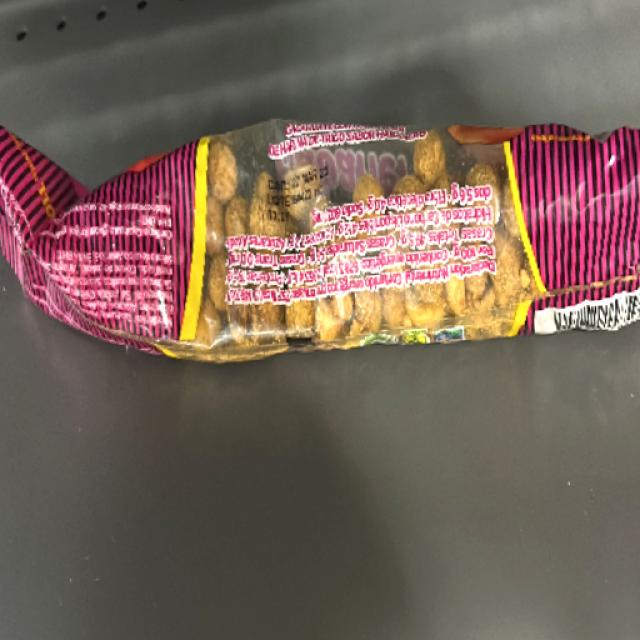bitzHabanero: (65, 115, 621, 353)
